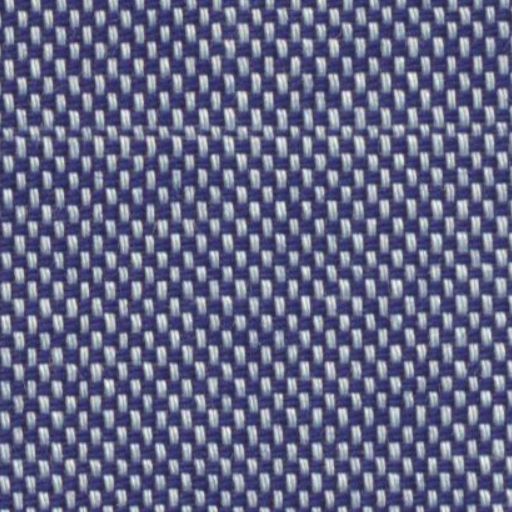TuoSha: (5, 99, 497, 155)
